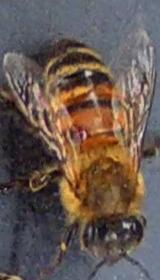varroa_mite: (53, 109, 99, 146)
